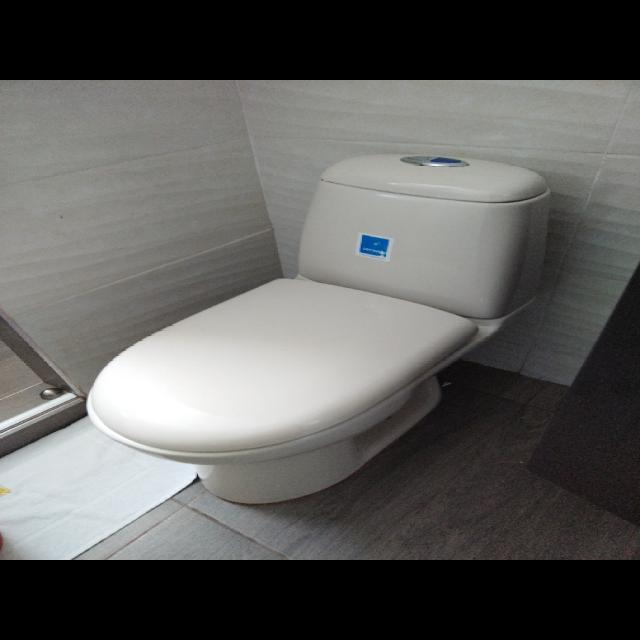toilet: (84, 152, 551, 504)
